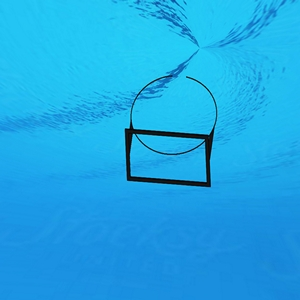circle: (122, 73, 222, 192)
